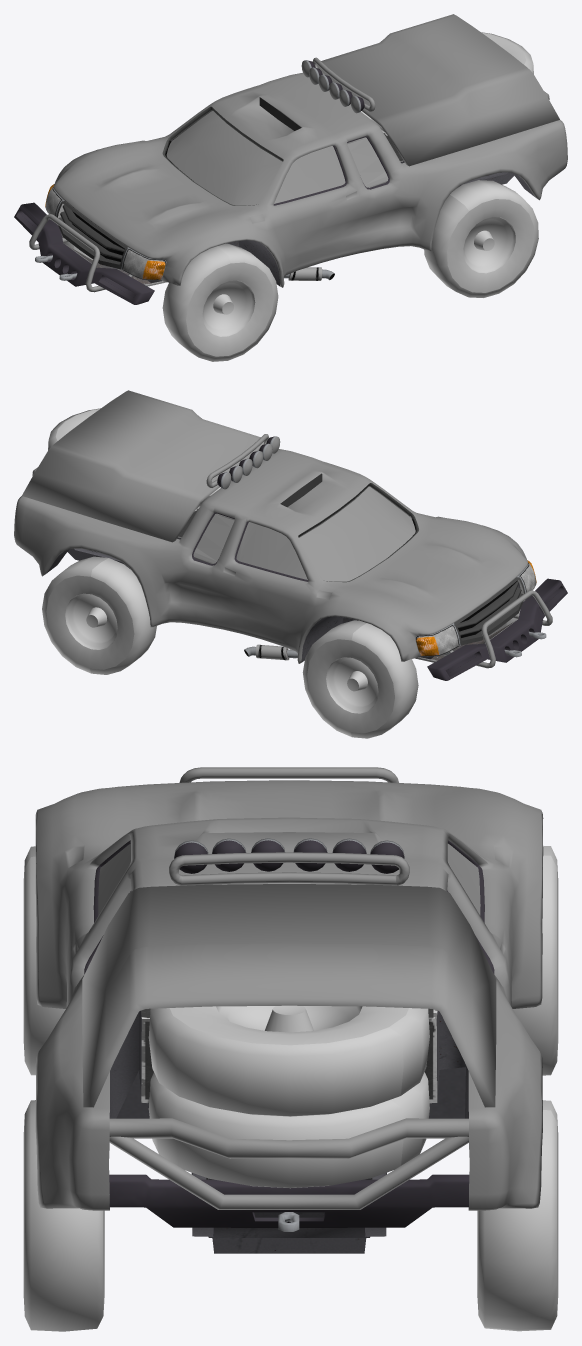
The model's file is TrophyTruck_B.FBX.
The picture shows the model from 3 angles, top to bottom: view 1: azimuth 30°, elevation 25°; view 2: azimuth 150°, elevation 25°; view 3: azimuth 270°, elevation 25°; orthographic projection. The views are drawn at different scales.
Parts seen in each view (by area): view 1: body, chassis, wheel_left_front, wheel_left_rear, glass, lights_glass, part_wheel; view 2: body, chassis, wheel_right_front, wheel_right_rear, glass, lights_glass, part_wheel; view 3: body, part_wheel, chassis, wheel_right_rear, wheel_left_rear, wheel_right_front, wheel_left_front, glass.
Part boxes in pixels (x1,y1,x2,y2): body: (29, 14, 567, 292); chassis: (14, 60, 535, 304); wheel_left_front: (162, 243, 278, 361); wheel_left_rear: (424, 180, 538, 297); glass: (166, 110, 388, 205); lights_glass: (301, 60, 359, 112); part_wheel: (481, 32, 533, 73); body: (14, 390, 552, 668); chassis: (47, 436, 567, 680); wheel_right_front: (302, 620, 418, 738); wheel_right_rear: (42, 556, 156, 674); glass: (193, 486, 415, 581); lights_glass: (222, 437, 279, 489); part_wheel: (48, 408, 100, 450); body: (35, 767, 543, 1210); part_wheel: (148, 1005, 429, 1188); chassis: (84, 838, 494, 1253); wheel_right_rear: (477, 1100, 558, 1331); wheel_left_rear: (23, 1100, 104, 1331); wheel_right_front: (513, 845, 558, 1075); wheel_left_front: (23, 846, 65, 1075); glass: (98, 843, 480, 915).
Size of the model in its own units: 5.95 by 2.28 by 2.84.
